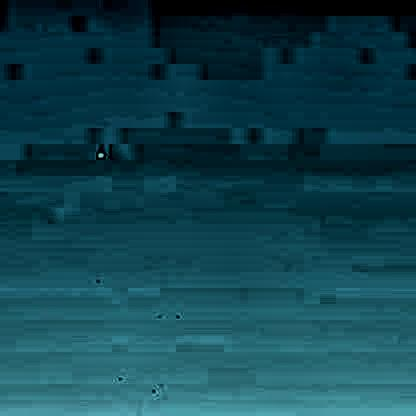golfball: (94, 148, 104, 156)
